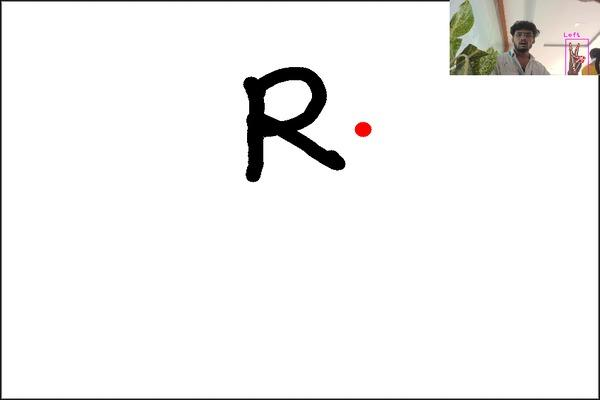R: (236, 54, 356, 186)
